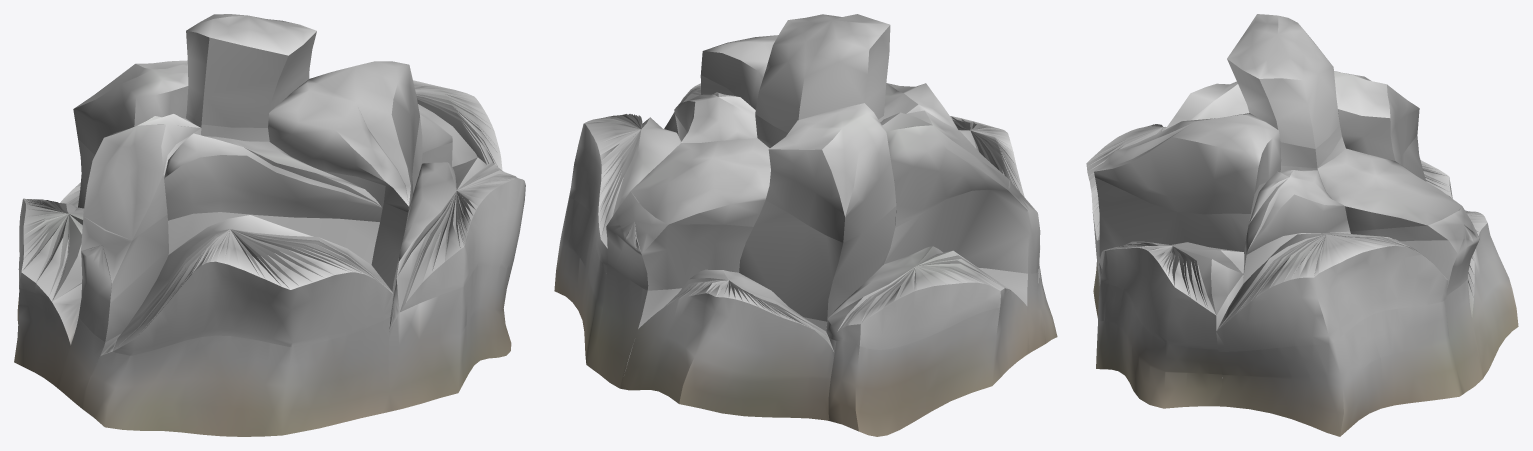
File: iron_rock_v4.glb
3 views of the same model, side by side, from view 1: azimuth 30°, elevation 25°; view 2: azimuth 150°, elevation 25°; view 3: azimuth 270°, elevation 25° (orthographic). The views are drawn at different scales.
Parts seen in each view (by area): view 1: Chunk_27, Chunk_28, Chunk_21, Chunk_30, Chunk_18, Chunk_03, Chunk_29, Chunk_15, Chunk_14, Chunk_12, Chunk_26, Chunk_25 (+8 smaller); view 2: Chunk_24, Chunk_25, Chunk_12, Chunk_03, Chunk_26, Chunk_11, Chunk_09, Chunk_14, Chunk_08, Chunk_15, Chunk_23, Chunk_22 (+8 smaller); view 3: Chunk_22, Chunk_23, Chunk_21, Chunk_30, Chunk_03, Chunk_29, Chunk_09, Chunk_20, Chunk_12, Chunk_06, Chunk_24, Chunk_08 (+7 smaller).
Boxes of the visible parts, x1,y1,x2,y2 form: Chunk_27: (81, 318, 391, 436); Chunk_28: (112, 215, 393, 355); Chunk_21: (268, 61, 419, 212); Chunk_30: (396, 157, 525, 311); Chunk_18: (164, 133, 382, 221); Chunk_03: (186, 14, 316, 127); Chunk_29: (388, 265, 511, 411); Chunk_15: (83, 114, 201, 240); Chunk_14: (78, 214, 168, 342); Chunk_12: (73, 60, 188, 154); Chunk_26: (19, 198, 83, 301); Chunk_25: (14, 239, 81, 388); Chunk_24: (621, 269, 834, 420); Chunk_25: (828, 290, 1029, 436); Chunk_12: (765, 103, 896, 242); Chunk_03: (755, 14, 890, 132); Chunk_26: (826, 246, 1010, 349); Chunk_11: (739, 200, 896, 321); Chunk_09: (631, 138, 770, 226); Chunk_14: (884, 180, 1040, 273); Chunk_08: (606, 191, 753, 290); Chunk_15: (880, 110, 1009, 227); Chunk_23: (569, 114, 681, 265); Chunk_22: (554, 197, 607, 369); Chunk_22: (1218, 299, 1462, 436); Chunk_23: (1216, 233, 1448, 351); Chunk_21: (1094, 113, 1281, 214); Chunk_30: (1099, 241, 1244, 349); Chunk_03: (1227, 14, 1339, 148); Chunk_29: (1096, 263, 1222, 408); Chunk_09: (1317, 148, 1461, 231); Chunk_20: (1095, 177, 1253, 255); Chunk_12: (1334, 71, 1419, 162); Chunk_06: (1245, 170, 1350, 254); Chunk_24: (1465, 210, 1518, 377); Chunk_08: (1350, 206, 1479, 295).
Size of the model in its own units: 2.65 by 1.92 by 2.41.
